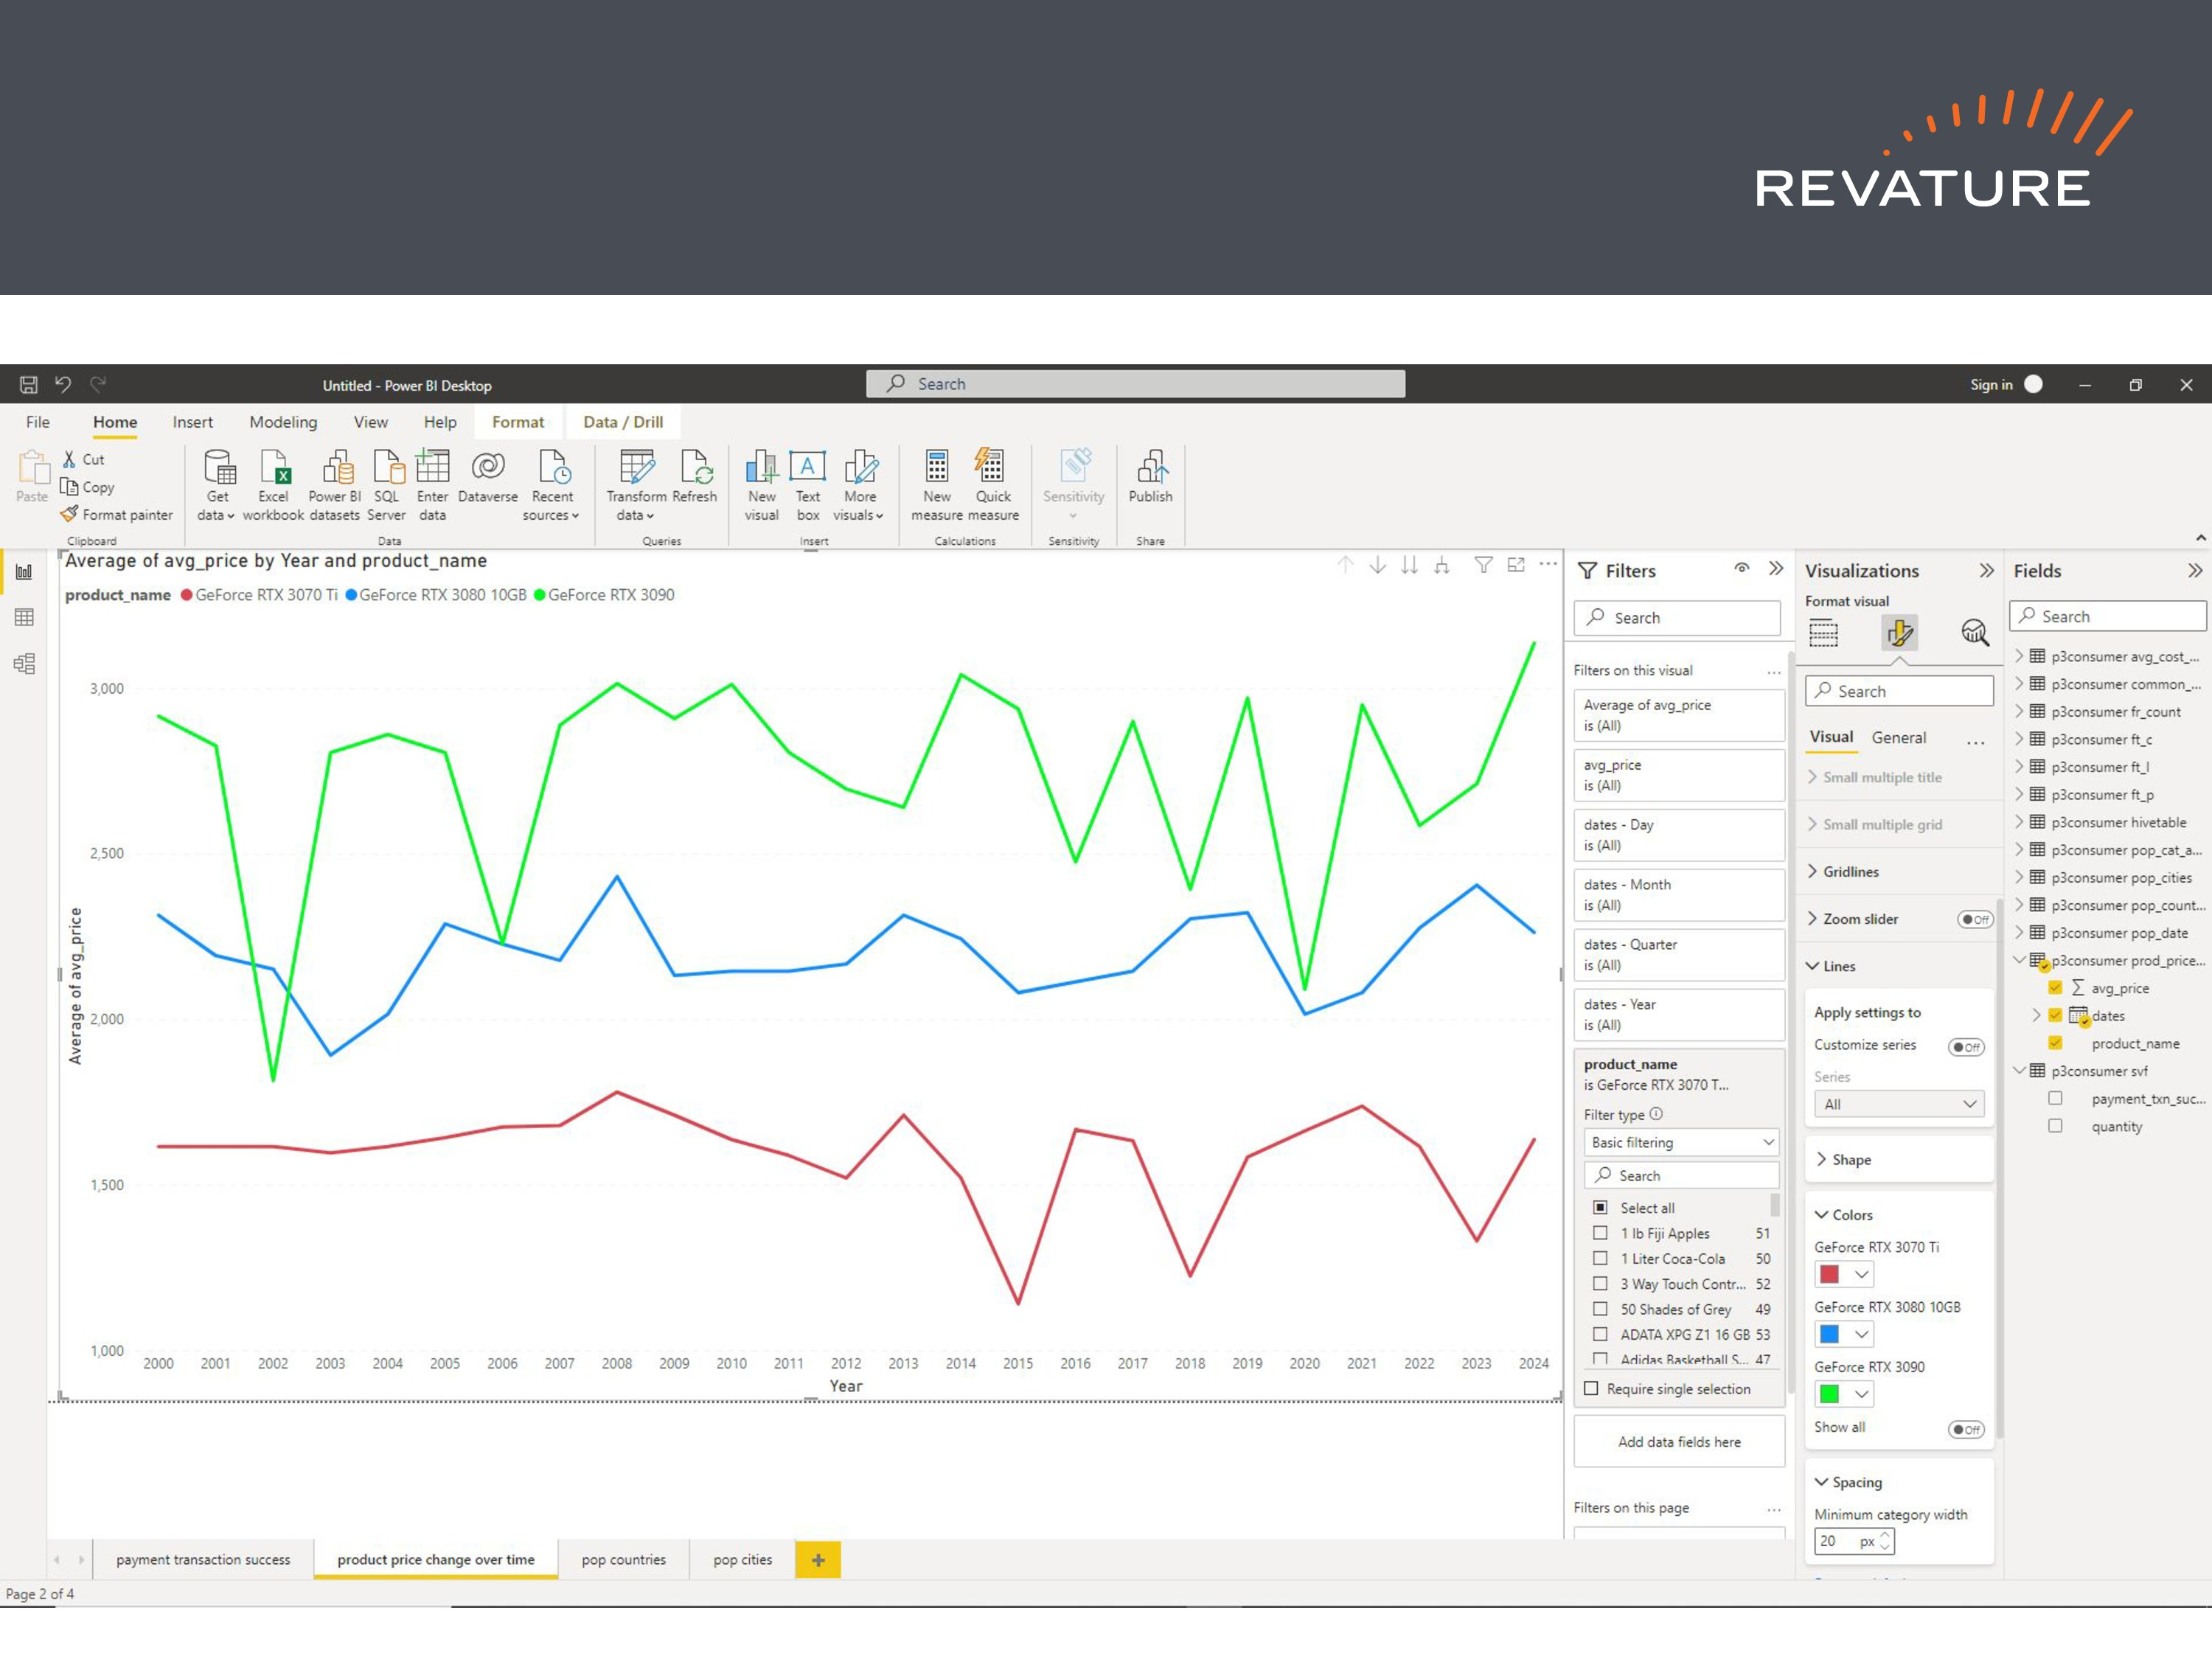

The dashboard page shown, as its layout file describes it:
{"tool":"powerbi","page":{"name":"prod_price_change","canvas":[1280,720],"ordinal":10},"visuals":[{"type":"barChart","title":"Change in Price by Date per Product","fields":{"Y":["Sum(proj3 prod_price_change.avg_price)"],"Rows":["proj3 prod_price_change.product_name"],"Category":["proj3 prod_price_change.dates.Variation.Date Hierarchy.Year","proj3 prod_price_change.dates.Variation.Date Hierarchy.Quarter","proj3 prod_price_change.dates.Variation.Date Hierarchy.Month","proj3 prod_price_change.dates.Variation.Date Hierarchy.Day"]},"box":[10.5,9.4,1269.2,710.6],"z":0}]}

Visuals, with their boxes on the page's 1280x720 design canvas (x1, y1, x2, y2). These are canvas units, not pixel positions in the 2212x1659 screenshot, which may show the page scaled, cropped or inside an application window:
"Change in Price by Date per Product" barChart: locate(10, 9, 1280, 720)
